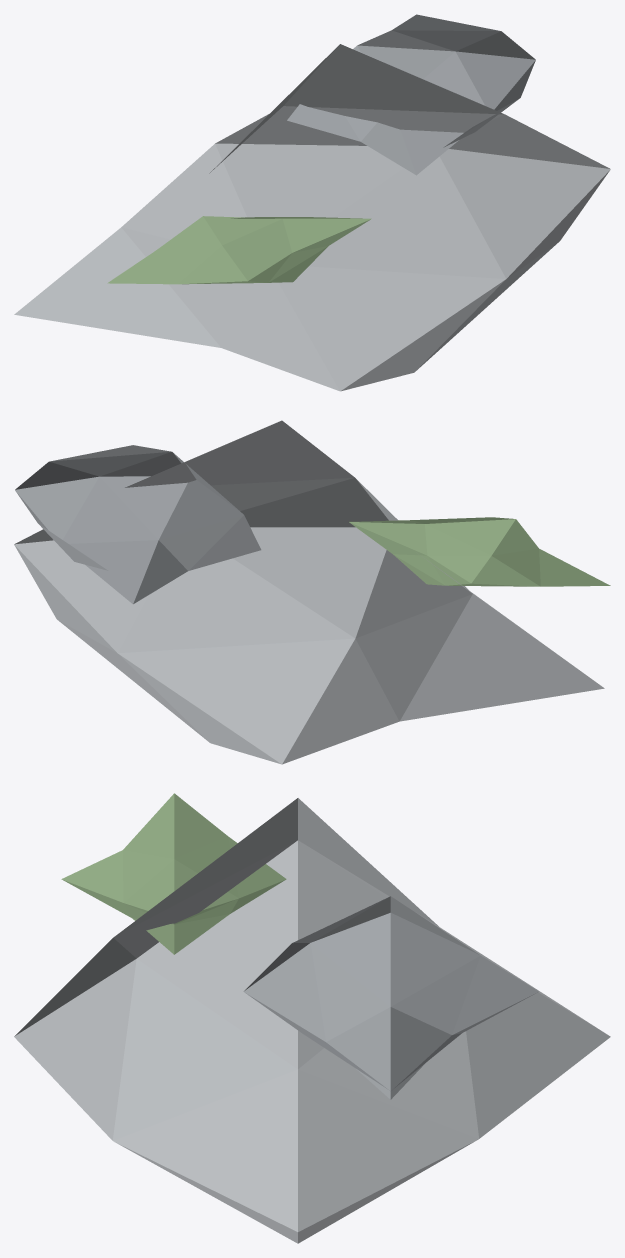
The model's file is boulder_v14.glb.
3 renders of one model, top to bottom at view 1: azimuth 30°, elevation 25°; view 2: azimuth 150°, elevation 25°; view 3: azimuth 270°, elevation 25°, orthographic. The views are drawn at different scales.
Visible parts, largest first — view 1: lod0; view 2: lod0; view 3: lod0.
Boxes of the visible parts, x1,y1,x2,y2 form: lod0: (14, 14, 610, 391); lod0: (14, 420, 610, 764); lod0: (14, 793, 610, 1243).
Size of what is drawn, in the model's own units: 3.62 by 2.02 by 2.51.
